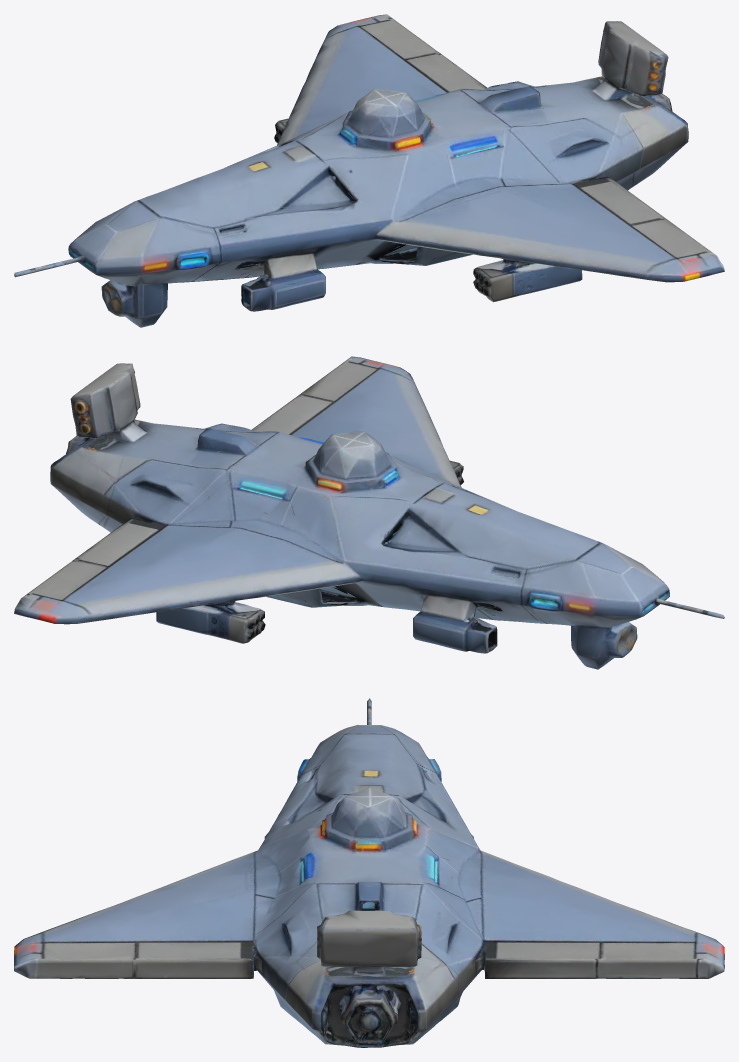
Rendered from overseer.glb.
The picture shows the model from 3 angles, top to bottom: view 1: azimuth 30°, elevation 25°; view 2: azimuth 150°, elevation 25°; view 3: azimuth 270°, elevation 25°; orthographic projection. The views are drawn at different scales.
Visible parts, largest first — view 1: Mesh1.0; view 2: Mesh1.0; view 3: Mesh1.0.
Part boxes in pixels (left/top/right/bottom): Mesh1.0: left=14, top=14, right=724, bottom=327; Mesh1.0: left=14, top=356, right=724, bottom=669; Mesh1.0: left=14, top=698, right=724, bottom=1047.
Bounding box in the file's own units: 1.91 × 0.4705 × 1.76.
Materials: 1 (1 with a texture image).
